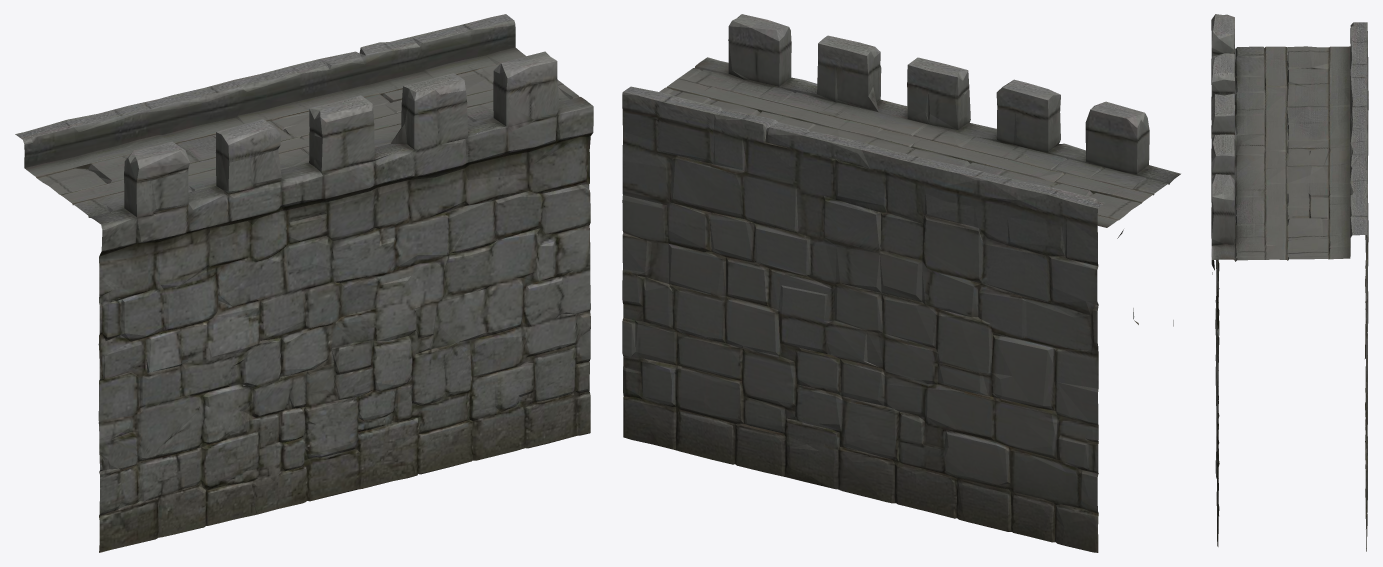
The model's file is bld_wall_section_walkway_a_LOD0.glb.
The picture shows the model from 3 angles, left to right: view 1: azimuth 30°, elevation 25°; view 2: azimuth 150°, elevation 25°; view 3: azimuth 270°, elevation 25°; orthographic projection. The views are drawn at different scales.
Visible parts, largest first — view 1: geometry_0; view 2: geometry_0; view 3: geometry_0.
Part boxes in pixels (<box>): geometry_0: <box>15,14,593,552</box>; geometry_0: <box>622,14,1180,552</box>; geometry_0: <box>1211,14,1368,551</box>.
Size of the model in its own units: 8 by 6 by 2.5.
1 material, 1 textured.
